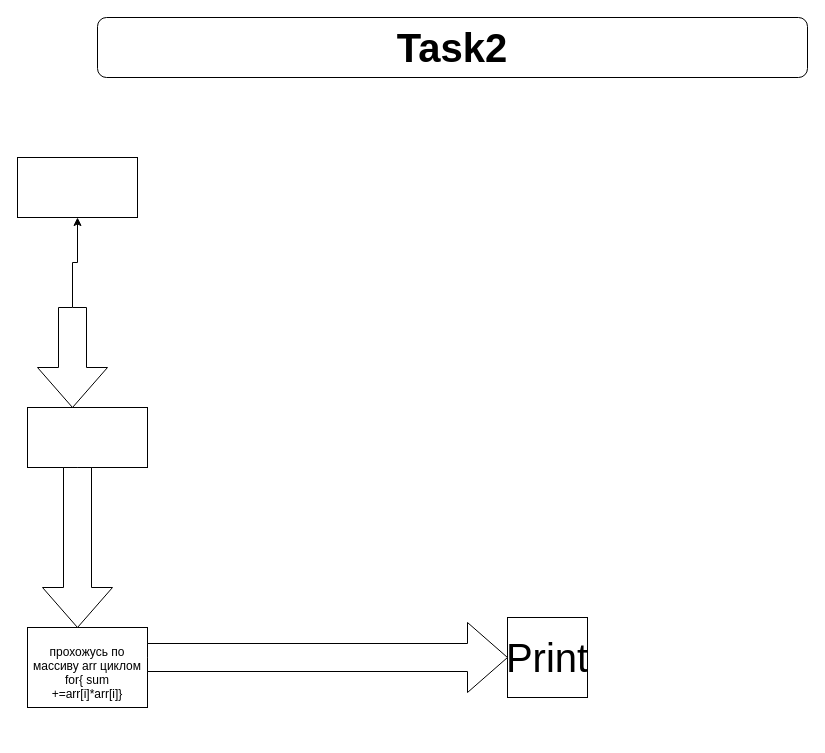
This 825x753 diagram has some shape labels left out. Each missing label, with the centre of its shape:
"Start" belongs at [77,187].
"создаю массив arr и sum= 0" belongs at [87,437].
